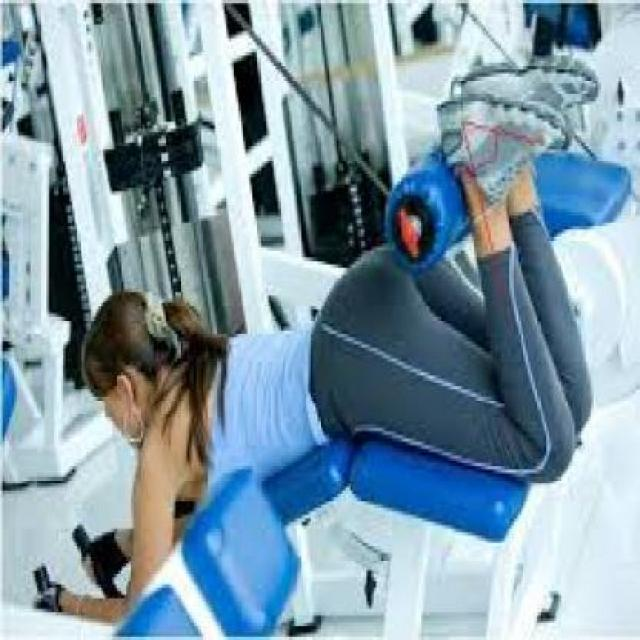reg curl machine: (32, 52, 606, 640)
